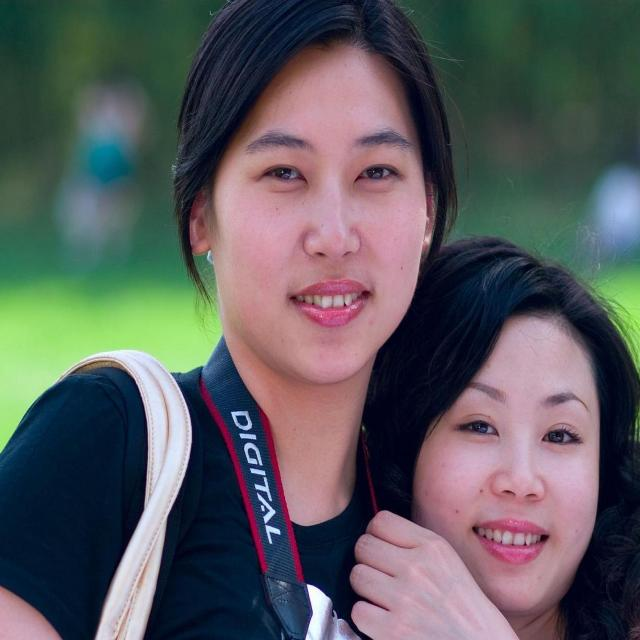no-glass: (254, 157, 399, 190)
